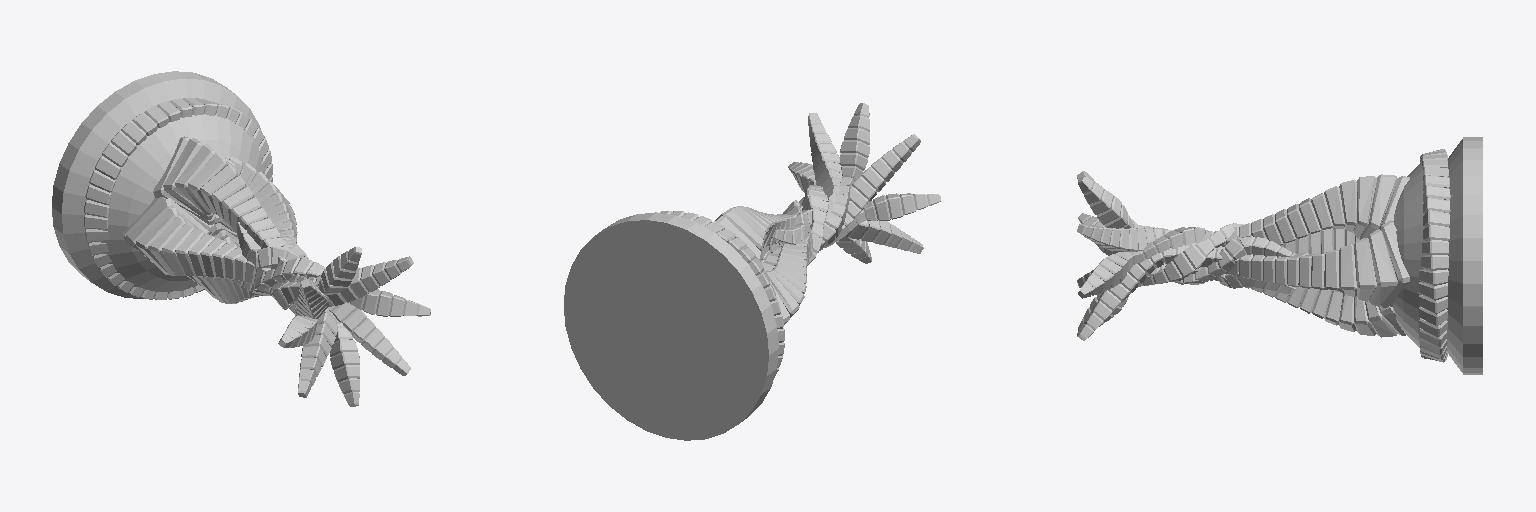
Rendered from Alien-Queen.obj.
The picture shows the model from 3 angles: view 1: azimuth 30°, elevation 25°; view 2: azimuth 150°, elevation 25°; view 3: azimuth 270°, elevation 25°; orthographic projection.
Bounding box in the file's own units: 36 × 36 × 61.71.